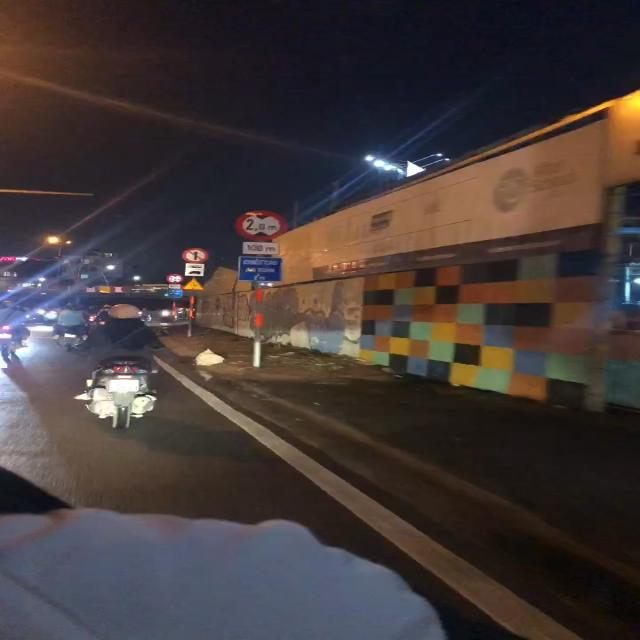Bien bao cam di thang: (181, 245, 211, 263)
Bien bao han che chieu cao: (233, 208, 289, 240)
